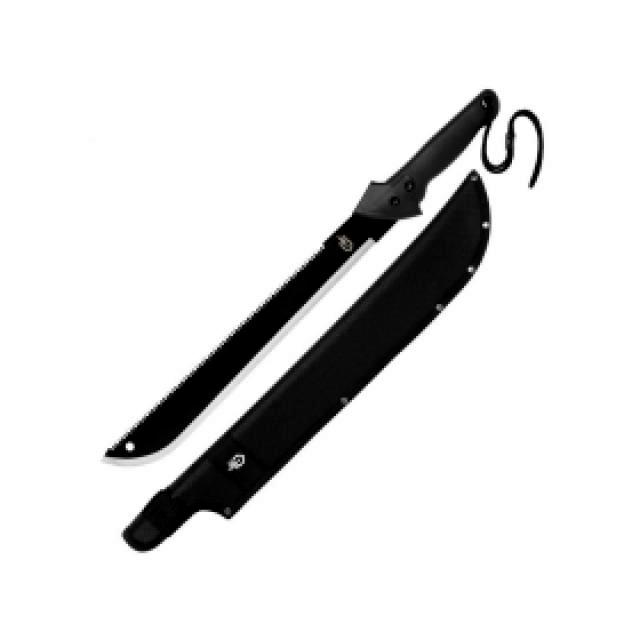long knife: (40, 72, 500, 470), (105, 94, 498, 464)
